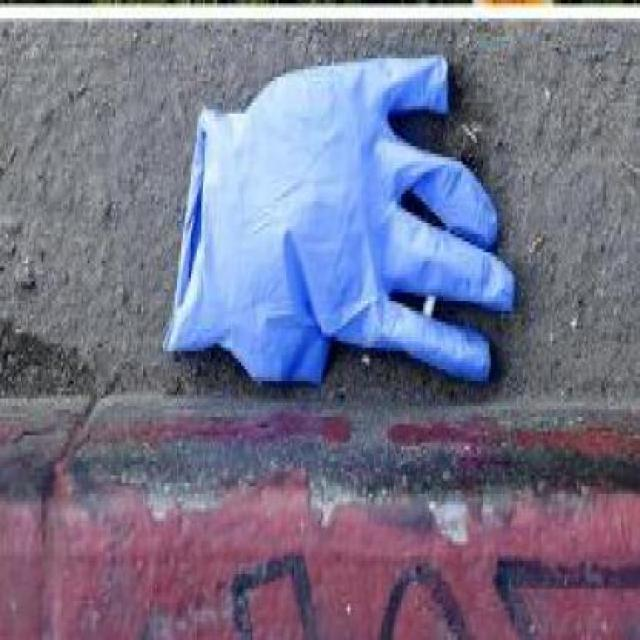glove_hand: (163, 47, 520, 416)
